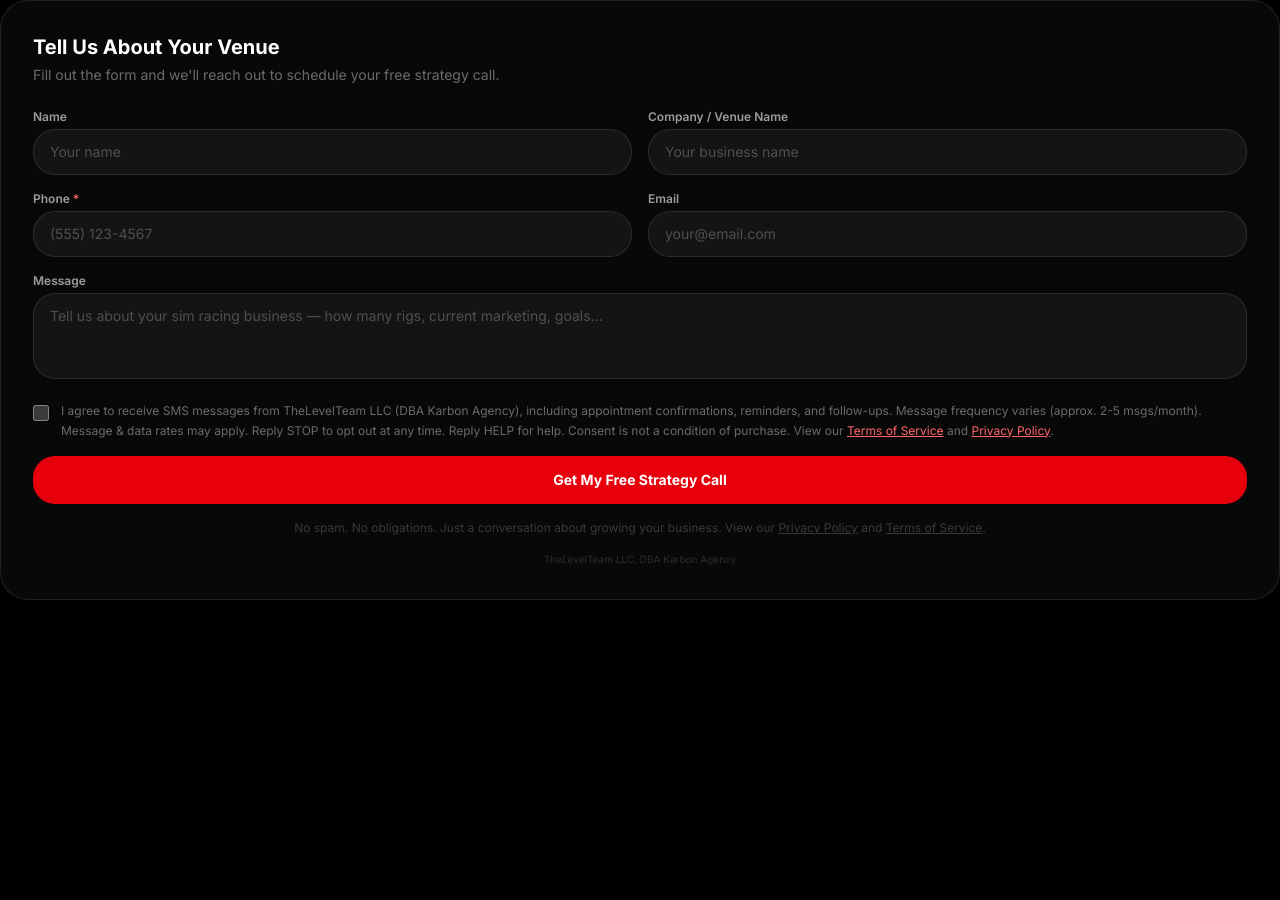
it: ContactForm › API error › displays server error message
The width and height of the screenshot is (1280, 900).
In the field with id "name": (332, 152) [33,129,632,175], type "John"
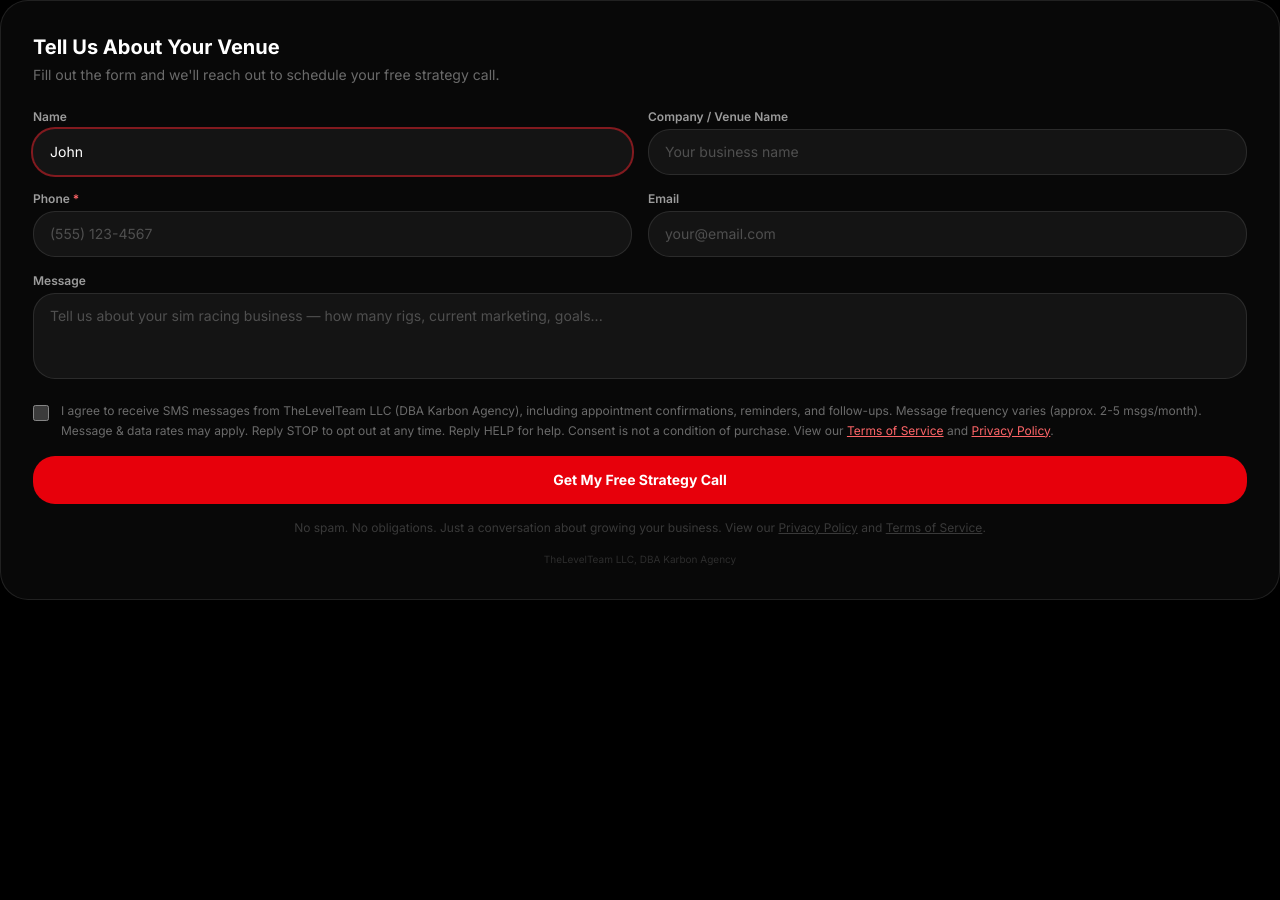
In the field labelled "Phone *": (332, 234) [33,211,632,257], type "123"
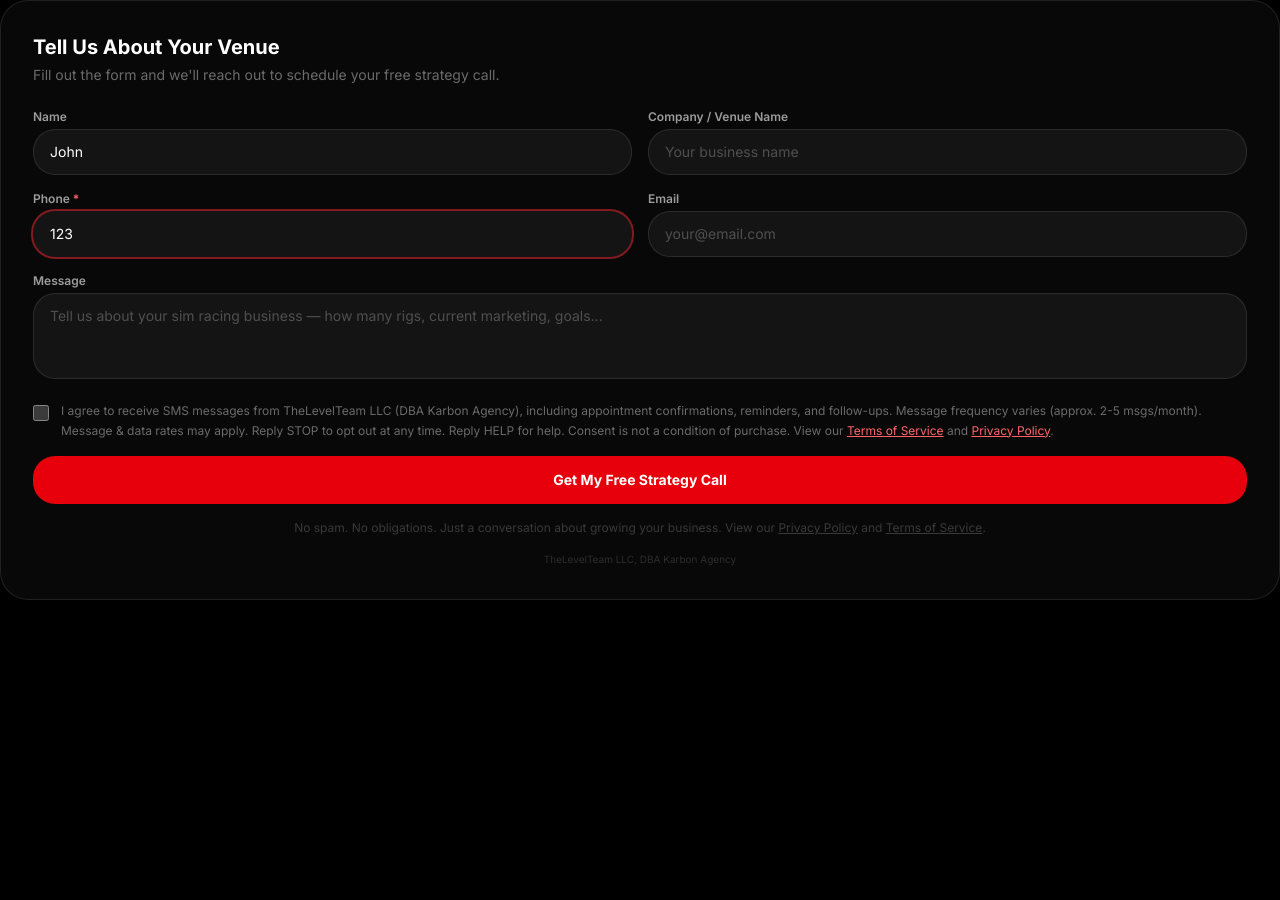
In the field with id "email": (948, 234) [648,211,1247,257], type "j@t.com"
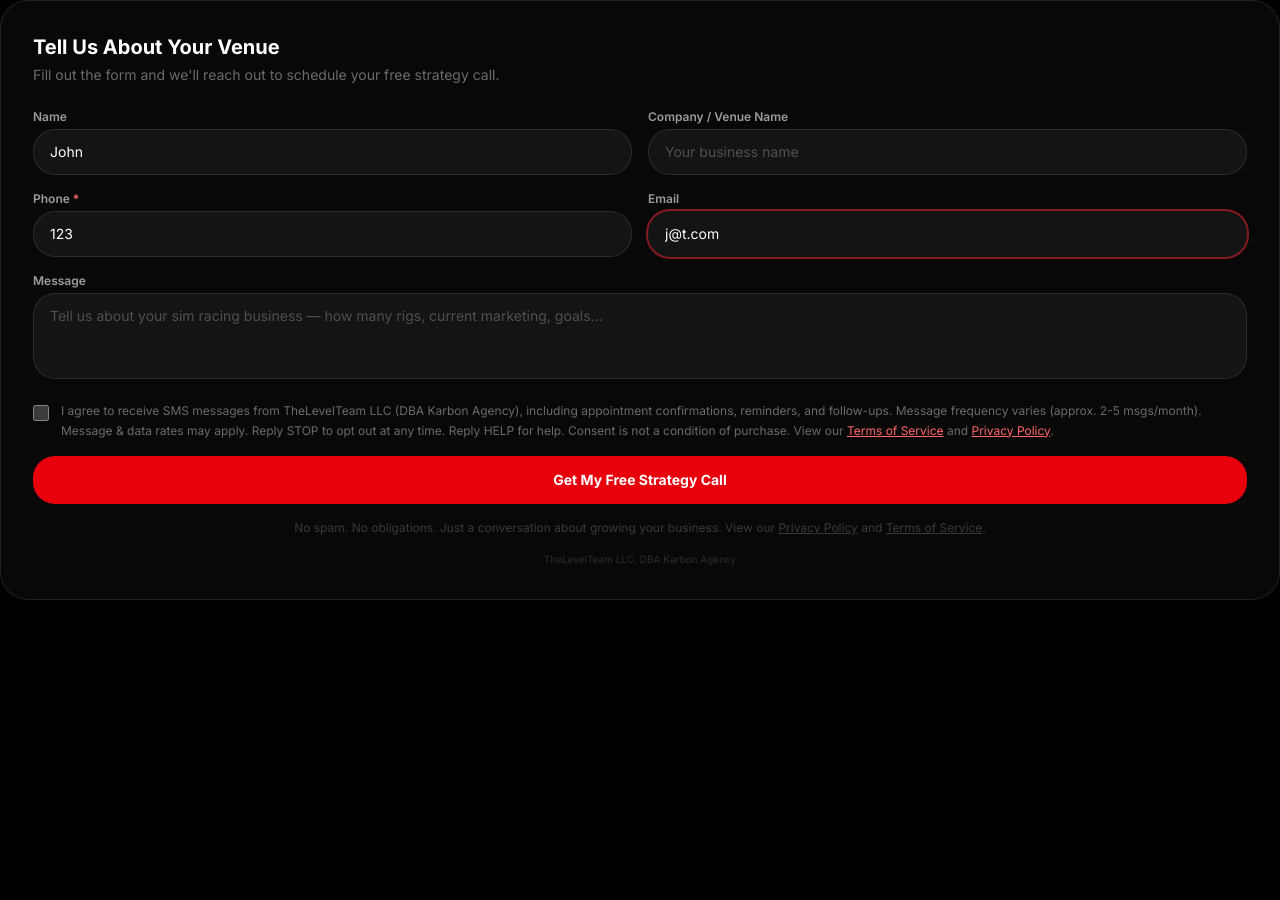
In the text box with id "message": (640, 336) [33,293,1247,379], type "Hi"
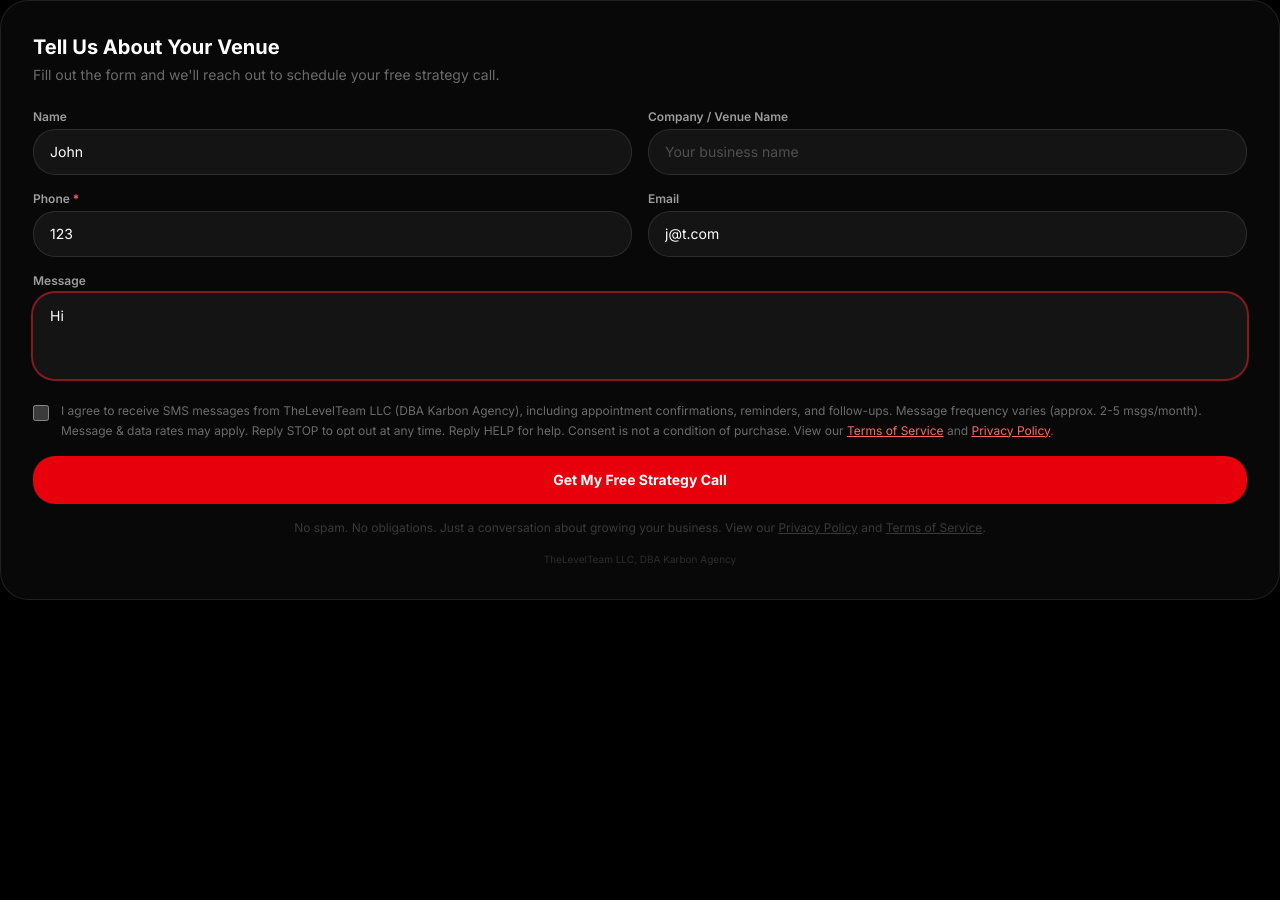
Click the button "Get My Free Strategy Call": (640, 480) [33,456,1247,504]
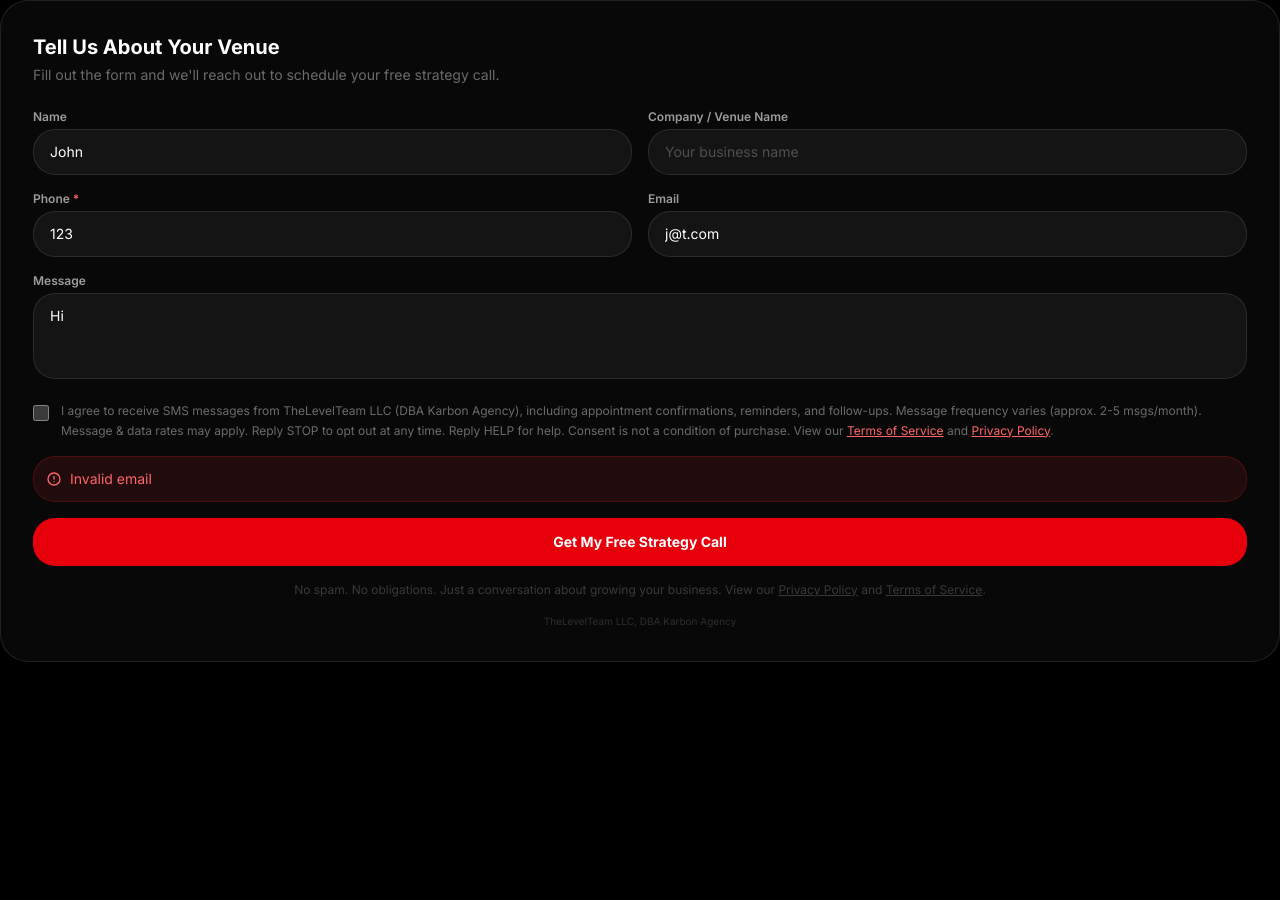
Expected: the text "Invalid email" is shown, [33,456,1247,502]
